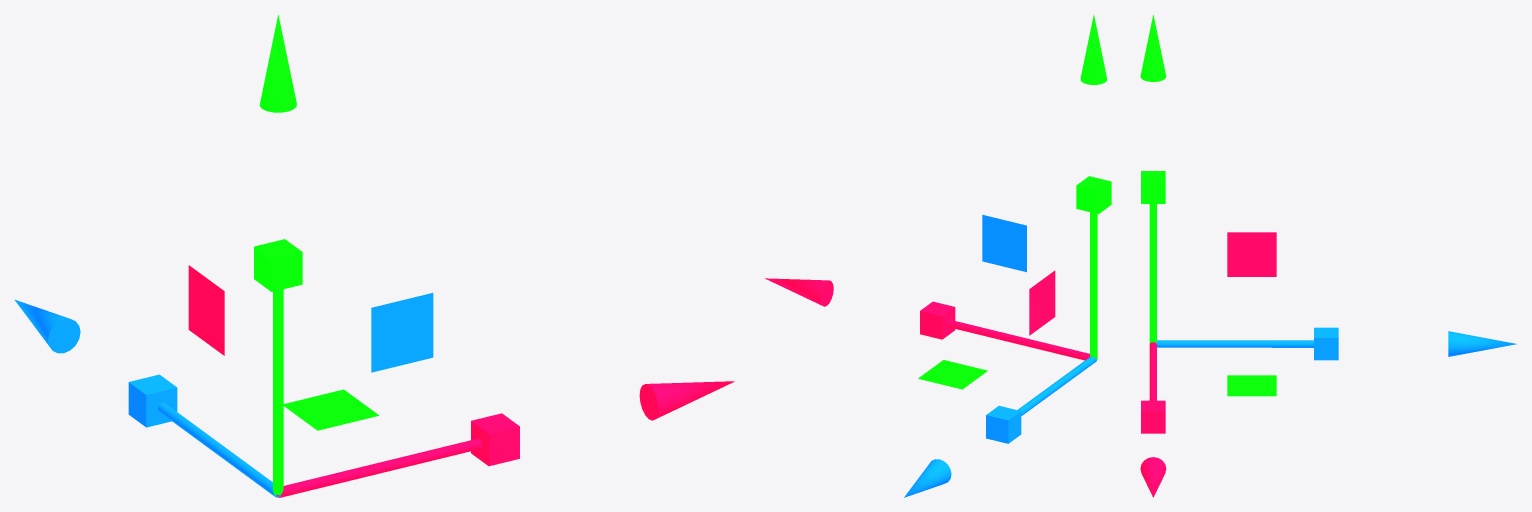
File: gizmo_all.glb
3 views of the same model, side by side, from view 1: azimuth 30°, elevation 25°; view 2: azimuth 150°, elevation 25°; view 3: azimuth 270°, elevation 25° (orthographic). The views are drawn at different scales.
Visible parts, largest first — view 1: all_scale_z, all_scale_x, scale_y_plane, all_scale_y, scale_x_plane, scale_z_plane, all_translate_y, all_translate_x, all_translate_z; view 2: all_scale_z, all_scale_x, scale_y_plane, all_scale_y, scale_x_plane, scale_z_plane, all_translate_y, all_translate_x, all_translate_z; view 3: scale_x_plane, all_scale_y, all_scale_z, all_scale_x, scale_z_plane, all_translate_y, all_translate_z, all_translate_x.
Boxes of the visible parts, bbox=[...] form: all_scale_z: bbox=[254, 239, 302, 494]; all_scale_x: bbox=[276, 413, 519, 497]; scale_y_plane: bbox=[371, 293, 433, 372]; all_scale_y: bbox=[128, 374, 280, 497]; scale_x_plane: bbox=[188, 265, 224, 355]; scale_z_plane: bbox=[283, 389, 378, 430]; all_translate_y: bbox=[259, 15, 296, 112]; all_translate_x: bbox=[639, 381, 734, 420]; all_translate_z: bbox=[14, 299, 80, 353]; all_scale_z: bbox=[1076, 176, 1111, 359]; all_scale_x: bbox=[920, 301, 1090, 360]; scale_y_plane: bbox=[982, 214, 1026, 272]; all_scale_y: bbox=[986, 356, 1096, 443]; scale_x_plane: bbox=[1029, 270, 1055, 335]; scale_z_plane: bbox=[918, 360, 987, 389]; all_translate_y: bbox=[1080, 14, 1107, 84]; all_translate_x: bbox=[765, 278, 833, 306]; all_translate_z: bbox=[904, 459, 951, 497]; scale_x_plane: bbox=[1227, 232, 1276, 276]; all_scale_y: bbox=[1156, 327, 1338, 360]; all_scale_z: bbox=[1141, 171, 1165, 343]; all_scale_x: bbox=[1141, 342, 1165, 433]; scale_z_plane: bbox=[1227, 375, 1276, 396]; all_translate_y: bbox=[1140, 15, 1166, 81]; all_translate_z: bbox=[1448, 331, 1516, 356]; all_translate_x: bbox=[1140, 457, 1166, 497].
Bounding box in the file's own units: 1.53 × 1.53 × 1.53.
